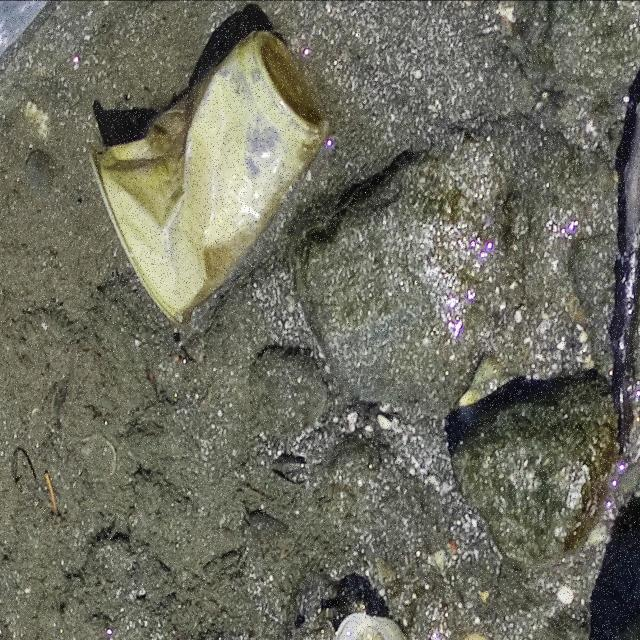plastic_waste: (94, 30, 327, 332)
